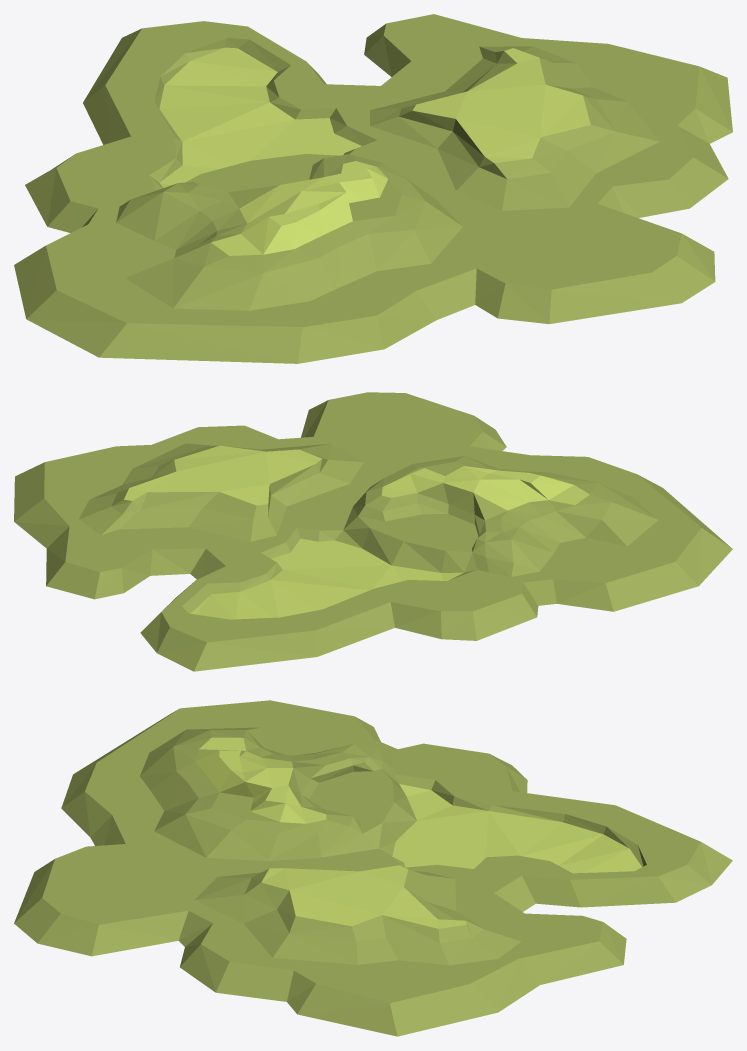
Rendered from EA03_Nature_Bush_Flat_03d.glb.
3 views of the same model, one above another, from view 1: azimuth 30°, elevation 25°; view 2: azimuth 150°, elevation 25°; view 3: azimuth 270°, elevation 25° (orthographic). The views are drawn at different scales.
Parts seen in each view (by area): view 1: EA03_Nature_Bush_Flat_03d; view 2: EA03_Nature_Bush_Flat_03d; view 3: EA03_Nature_Bush_Flat_03d.
Boxes of the visible parts, bbox=[...] form: EA03_Nature_Bush_Flat_03d: bbox=[14, 14, 732, 363]; EA03_Nature_Bush_Flat_03d: bbox=[14, 392, 732, 671]; EA03_Nature_Bush_Flat_03d: bbox=[14, 700, 732, 1036].
Bounding box in the file's own units: 5.11 × 0.4003 × 4.71.
1 material, 1 textured.
